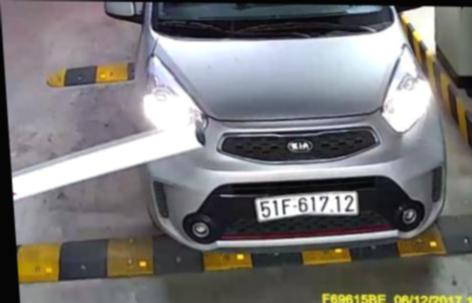License_Plate: (252, 189, 369, 230)
